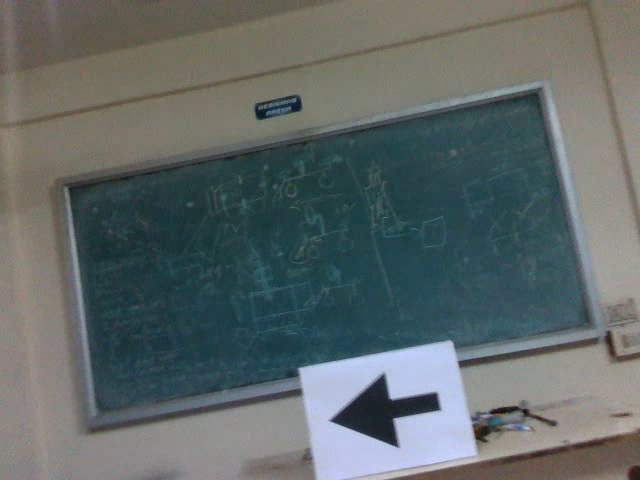Left: (323, 367, 444, 449)
